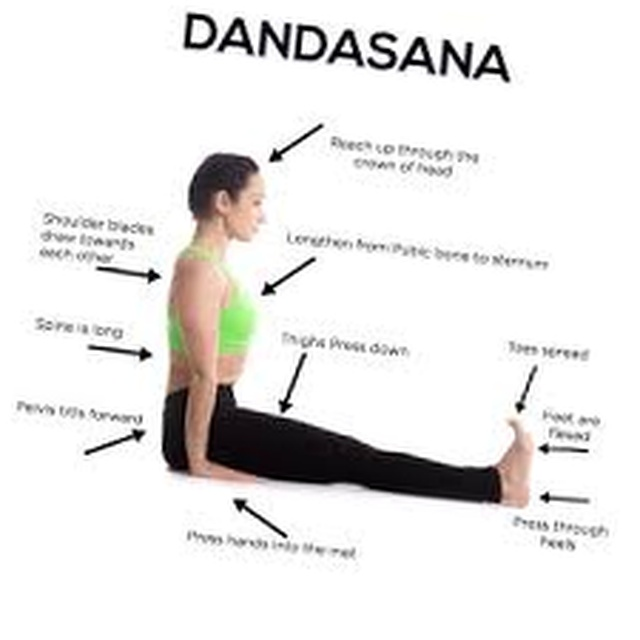Staff_Pose: (162, 150, 533, 510)
